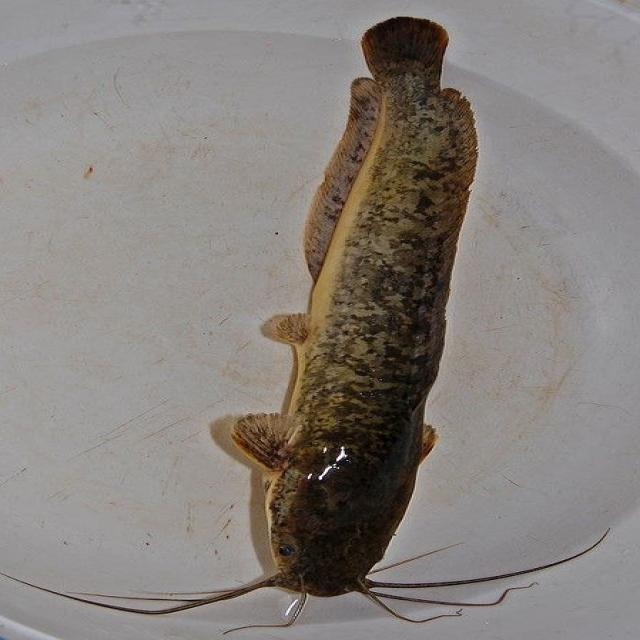Catfish: (114, 0, 640, 638)
